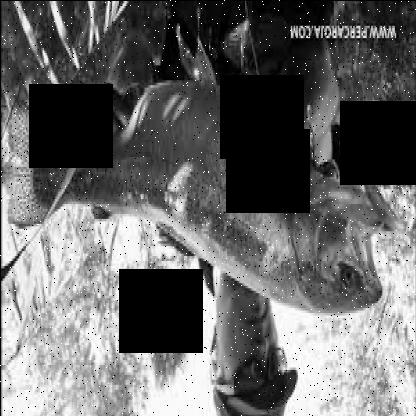fish: (7, 78, 394, 316)
